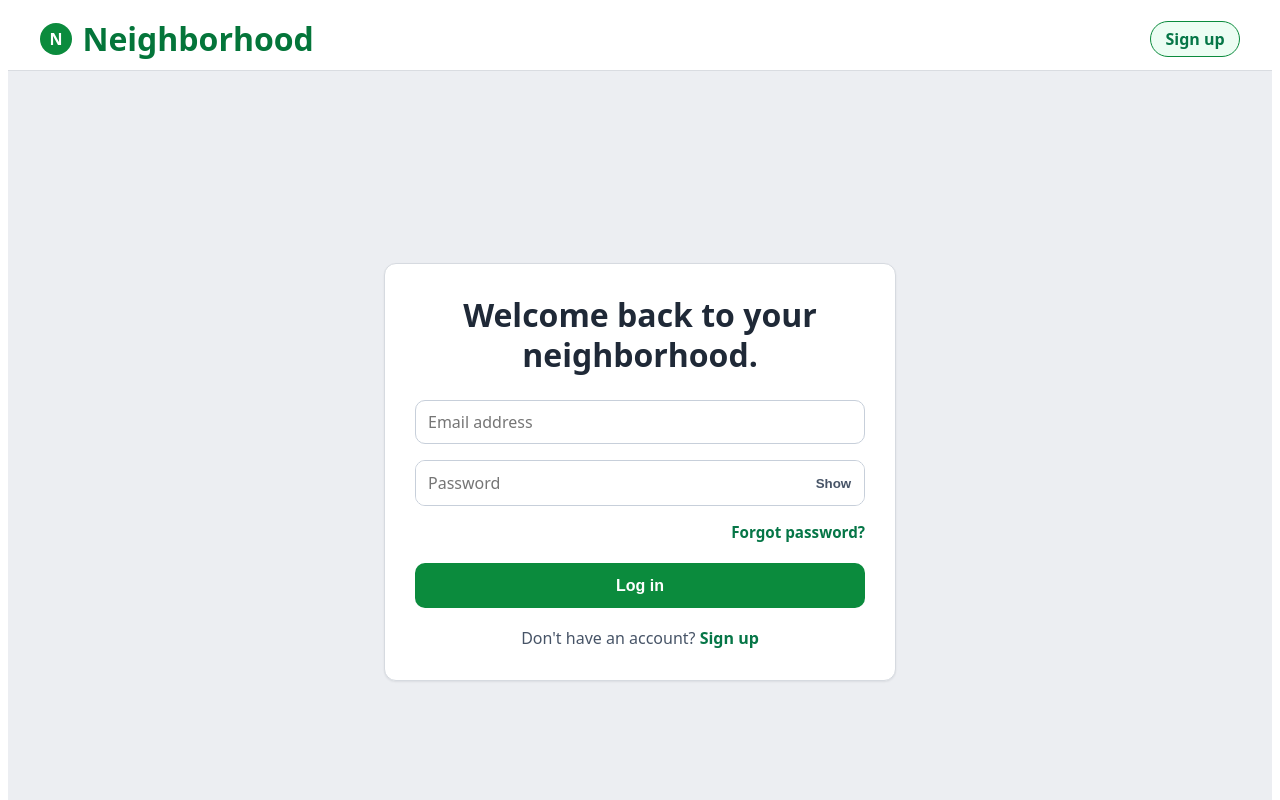
Login Page Validation › shows required field errors when submitting empty form
Click the button "Log in" at (640, 586), box [415,563,865,608]
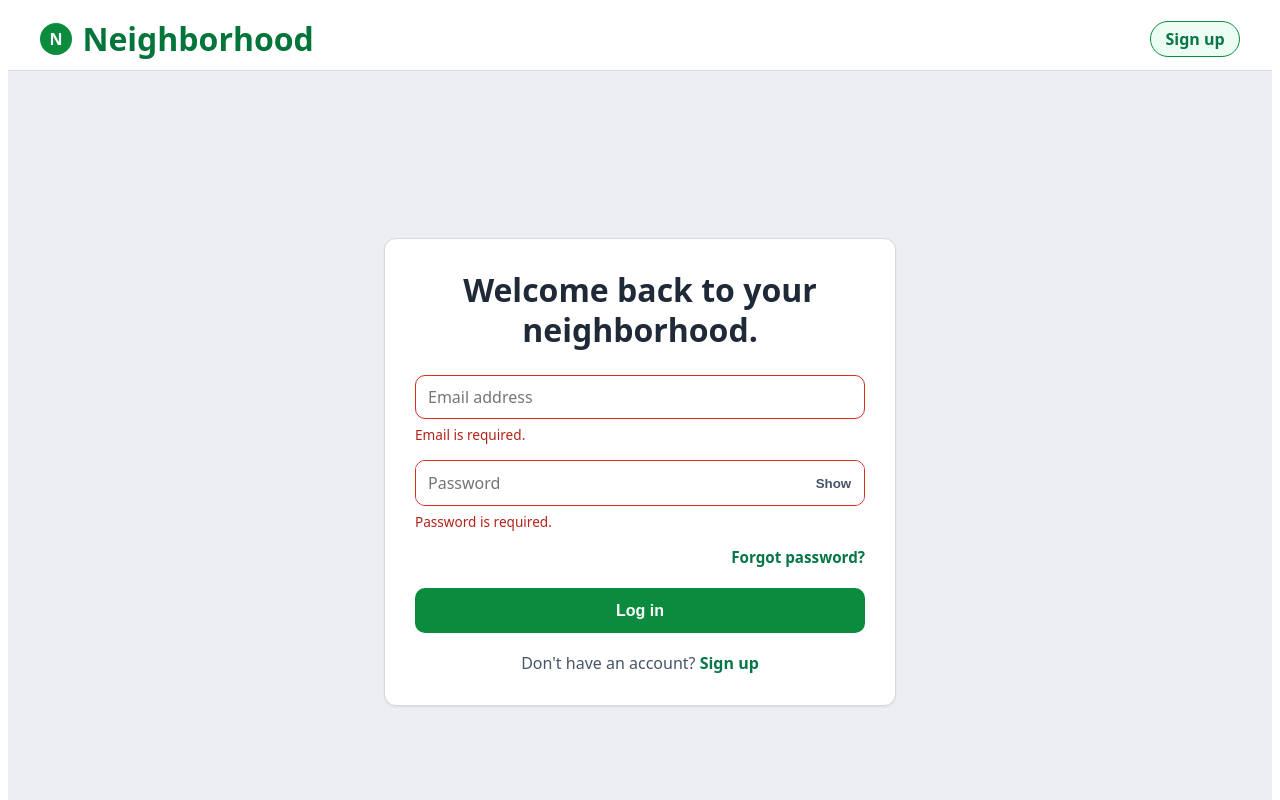
Now the text "Email is required." is shown, box [415,425,525,444]
Now the text "Password is required." is shown, box [415,512,552,532]
